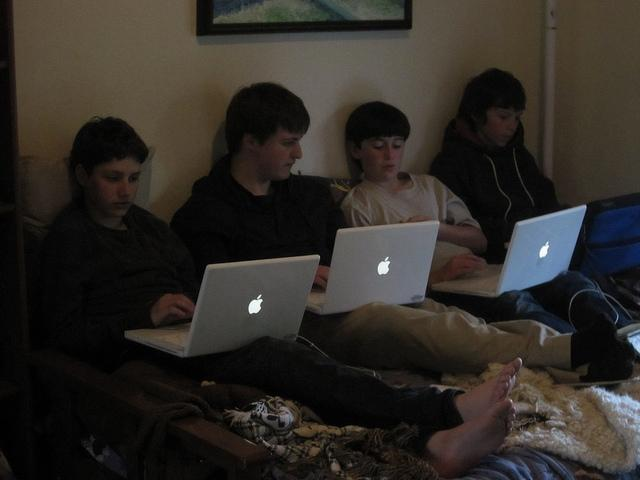apple: (248, 294, 262, 314), (377, 256, 390, 275), (540, 241, 550, 258)
